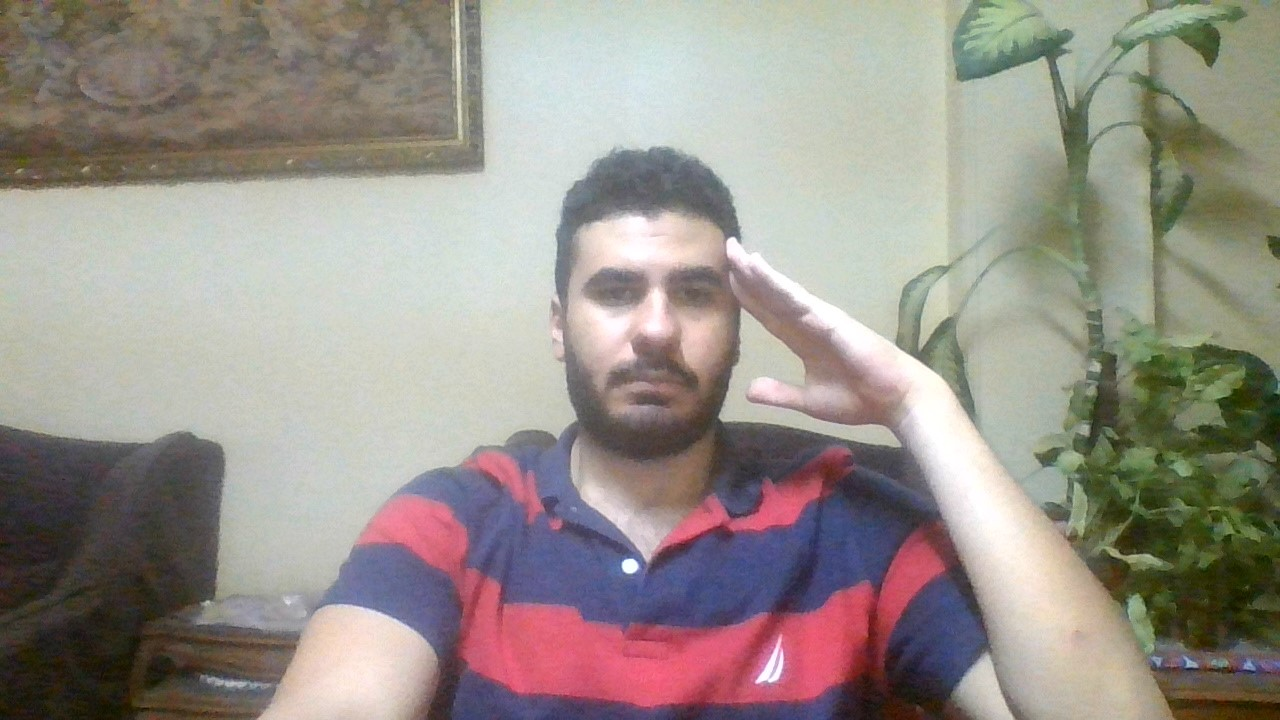hello: (716, 216, 932, 438)
